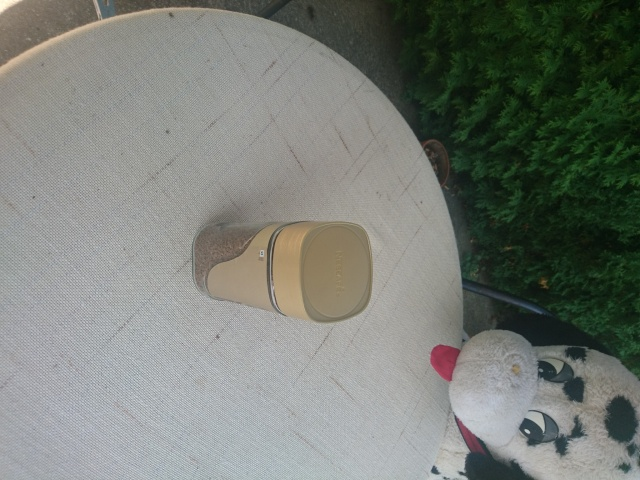Nescafe Gold 225g: (188, 218, 376, 326)
